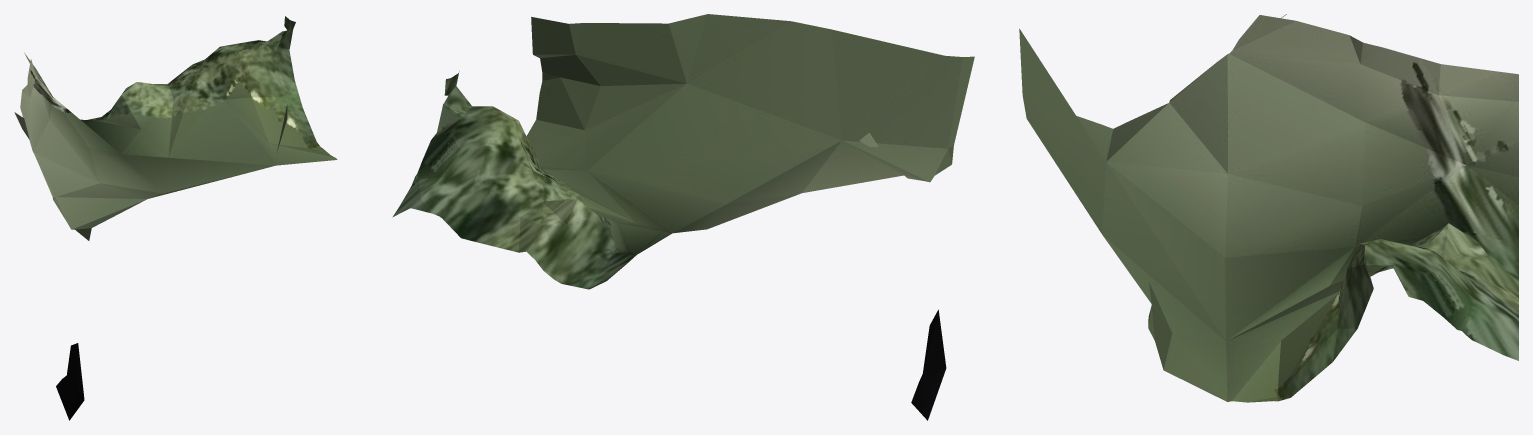
The picture shows the model from 3 angles, left to right: view 1: azimuth 30°, elevation 25°; view 2: azimuth 150°, elevation 25°; view 3: azimuth 270°, elevation 25°; orthographic projection. The views are drawn at different scales.
Bounding box in the file's own units: 5.9 × 4.98 × 5.72.
3 materials, 3 textured.
